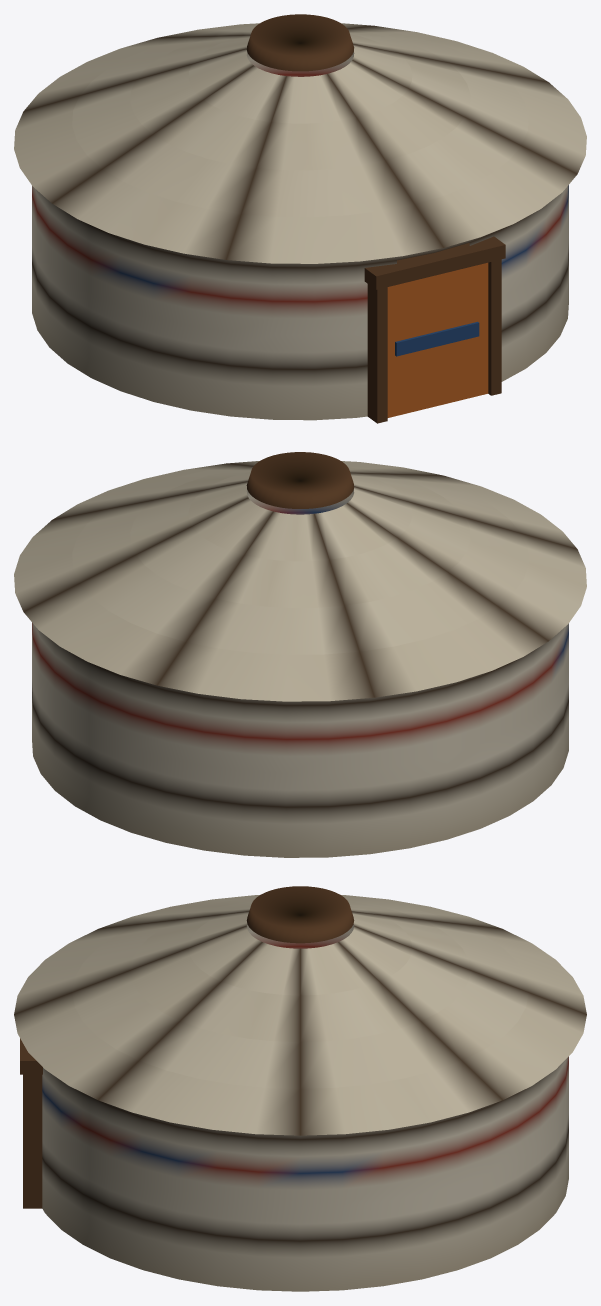
Rendered from yurt-4.glb.
3 renders of one model, top to bottom at view 1: azimuth 30°, elevation 25°; view 2: azimuth 150°, elevation 25°; view 3: azimuth 270°, elevation 25°, orthographic.
Visible parts, largest first — view 1: yurt-4; view 2: yurt-4; view 3: yurt-4.
Boxes of the visible parts, left/top/right/bottom form: yurt-4: left=14, top=14, right=586, bottom=423; yurt-4: left=14, top=452, right=586, bottom=857; yurt-4: left=14, top=886, right=586, bottom=1291.
Bounding box in the file's own units: 3.84 × 2.01 × 3.84.
